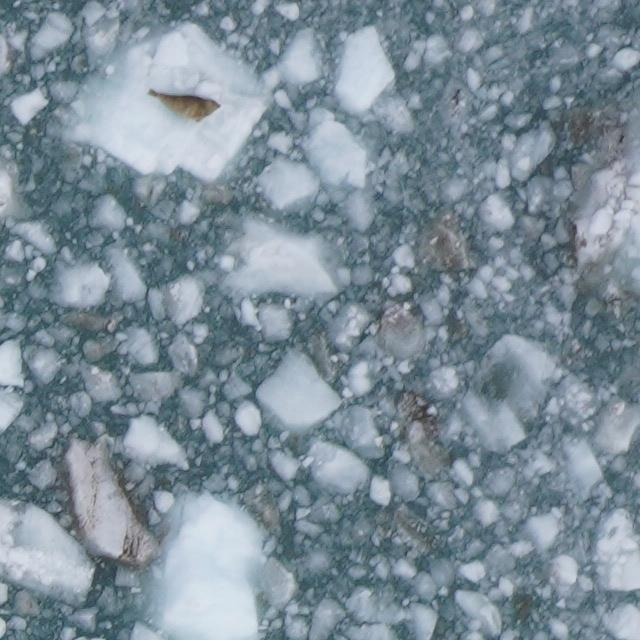seal: (143, 86, 226, 127)
